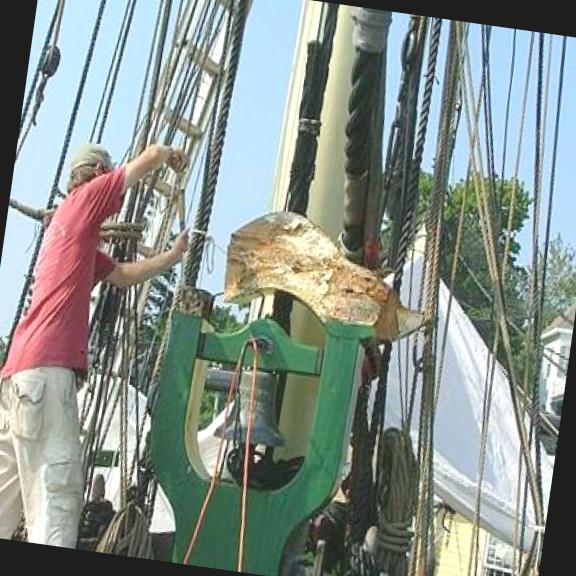no_safety_vest: (8, 195, 110, 367)
